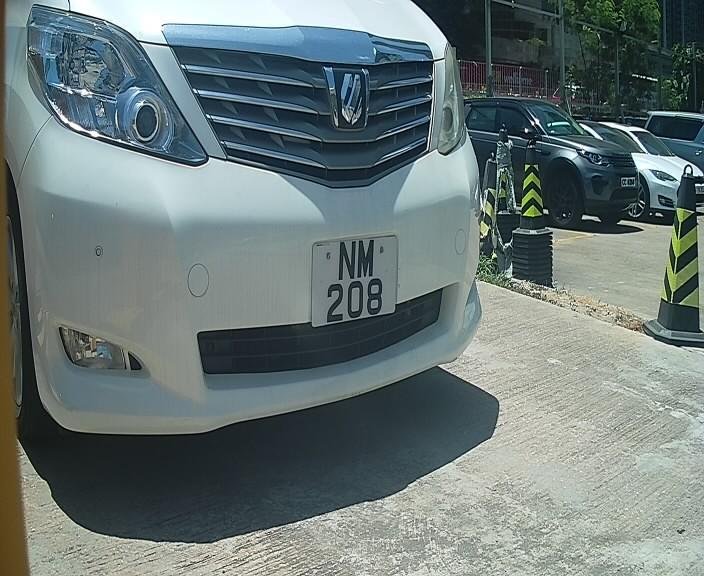privatecar: (4, 8, 510, 474)
